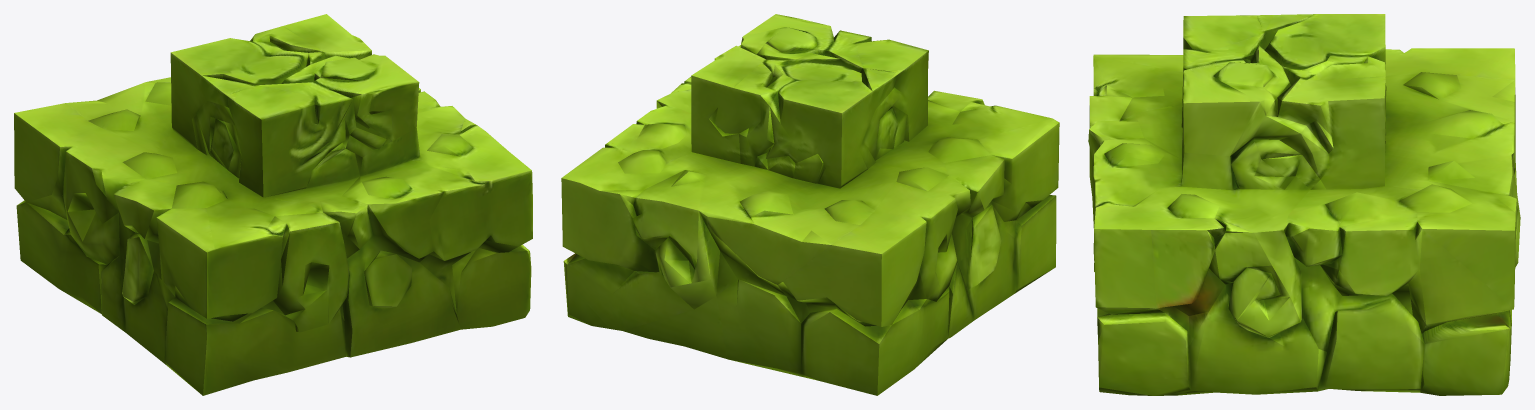
File: m2RuinStone.glb
3 views of the same model, side by side, from view 1: azimuth 30°, elevation 25°; view 2: azimuth 150°, elevation 25°; view 3: azimuth 270°, elevation 25° (orthographic). The views are drawn at different scales.
Parts seen in each view (by area): view 1: model; view 2: model; view 3: model.
Part boxes in pixels (<box>): model: <box>14,14,532,395</box>; model: <box>561,14,1059,395</box>; model: <box>1088,14,1520,395</box>.
Bounding box in the file's own units: 1.9 × 1.26 × 1.88.
1 material, 1 textured.
